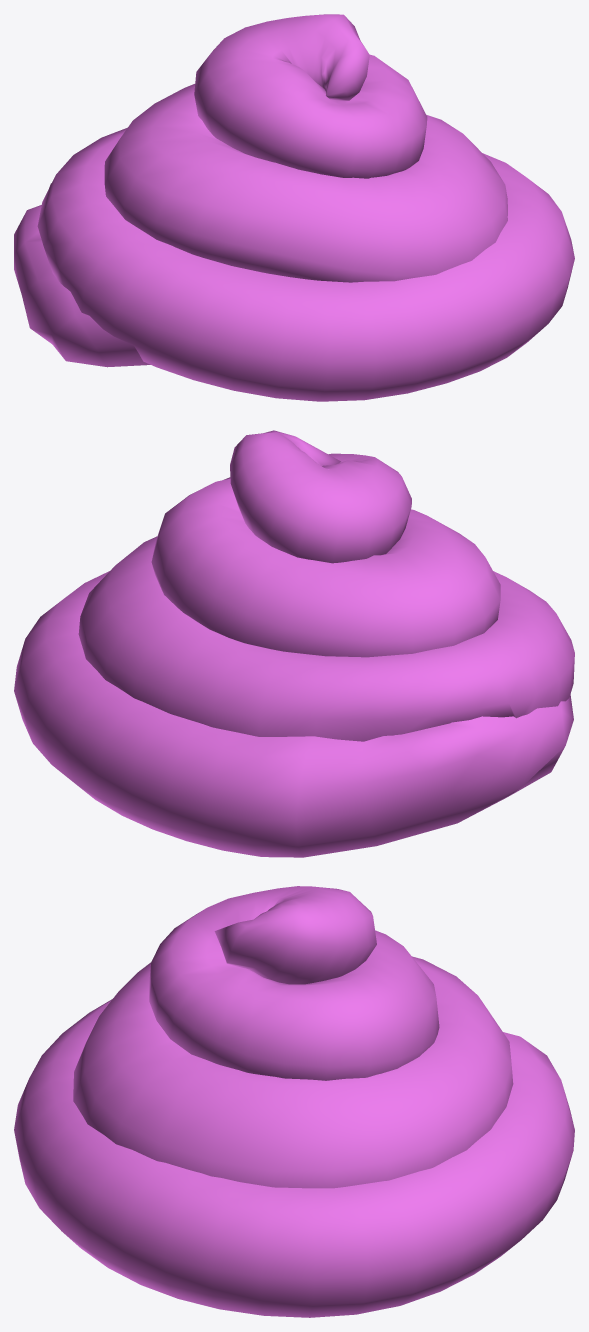
File: Mama-v1.3.fbx
3 renders of one model, top to bottom at view 1: azimuth 30°, elevation 25°; view 2: azimuth 150°, elevation 25°; view 3: azimuth 270°, elevation 25°, orthographic. The views are drawn at different scales.
Parts seen in each view (by area): view 1: BezierCurve; view 2: BezierCurve; view 3: BezierCurve.
Part boxes in pixels (bbox=[...]): BezierCurve: bbox=[14, 14, 574, 401]; BezierCurve: bbox=[14, 430, 574, 857]; BezierCurve: bbox=[14, 886, 574, 1317].
Bounding box in the file's own units: 275 × 161 × 253.
